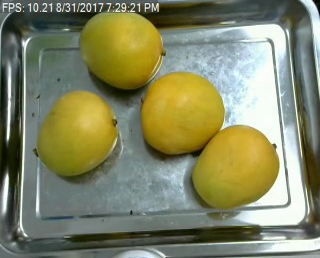Mango: (190, 126, 280, 206), (37, 89, 120, 175), (79, 11, 161, 89), (145, 71, 225, 150)
